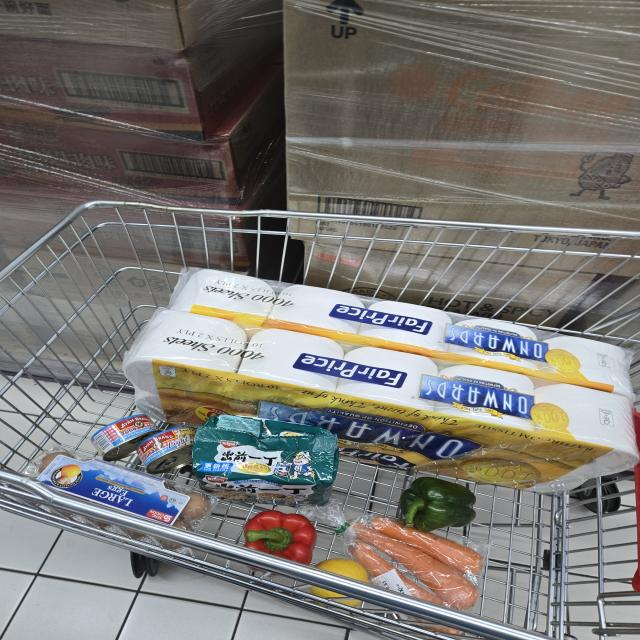bell-pepper: (393, 472, 478, 532), (240, 506, 317, 568)
carrot: (345, 520, 481, 614), (346, 536, 464, 638), (364, 510, 487, 576)
eggs: (31, 446, 216, 548)
instant-noodle: (195, 410, 345, 510)
lemon: (310, 554, 372, 609)
toilet-paper: (127, 308, 640, 495), (160, 262, 640, 404)
tuna-can: (89, 410, 154, 463), (131, 423, 200, 470)
